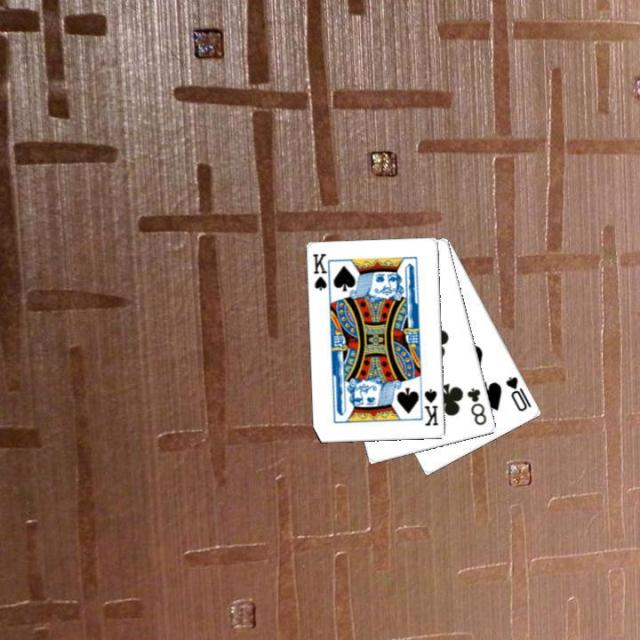10S: (502, 372, 534, 413)
8C: (463, 384, 489, 428)
KS: (310, 250, 332, 296), (421, 385, 440, 428)
